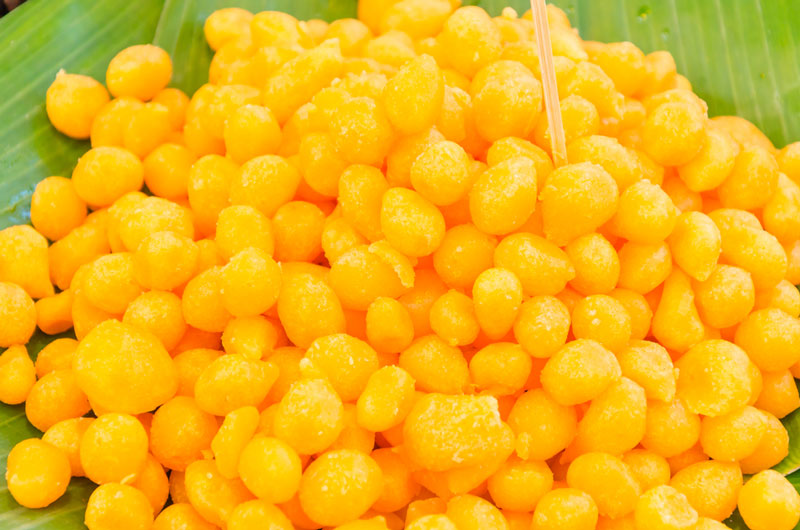tongyod: (73, 329, 184, 402), (296, 12, 385, 96), (536, 329, 629, 408), (273, 377, 348, 462), (69, 416, 158, 484), (3, 433, 71, 522), (676, 343, 757, 415), (572, 445, 643, 527), (298, 449, 384, 516), (464, 65, 540, 140), (669, 211, 744, 283), (544, 169, 619, 240), (473, 152, 539, 231), (190, 349, 278, 408), (662, 453, 741, 518), (196, 3, 286, 60), (17, 363, 89, 427), (72, 150, 157, 204), (648, 87, 705, 165), (468, 335, 535, 400), (380, 187, 448, 251), (191, 451, 254, 519), (732, 305, 800, 368), (391, 55, 445, 134), (395, 332, 469, 389), (103, 44, 179, 99), (48, 73, 114, 136), (213, 251, 279, 314), (467, 268, 527, 335), (128, 228, 204, 280), (23, 173, 85, 236), (282, 276, 346, 337), (231, 158, 310, 205), (744, 463, 799, 530), (76, 485, 153, 530), (362, 367, 413, 432), (335, 164, 385, 229), (223, 105, 286, 155), (371, 300, 426, 344)
